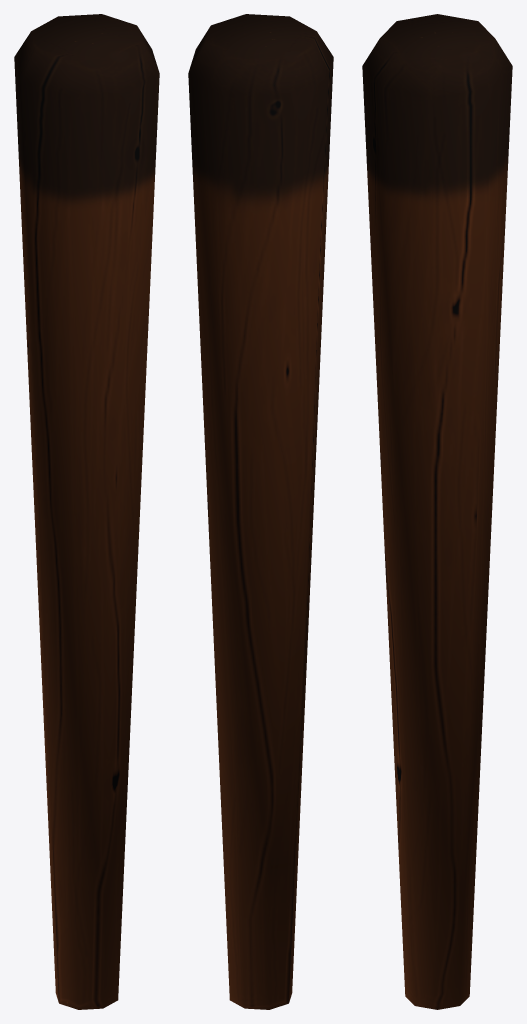
The model's file is Torch.fbx.
3 renders of one model, left to right at view 1: azimuth 30°, elevation 25°; view 2: azimuth 150°, elevation 25°; view 3: azimuth 270°, elevation 25°, orthographic.
Visible parts, largest first — view 1: Torch_LOD0; view 2: Torch_LOD0; view 3: Torch_LOD0.
Boxes of the visible parts, box(x1,y1,x2,y2) form: Torch_LOD0: box(14, 14, 159, 1009); Torch_LOD0: box(188, 14, 333, 1009); Torch_LOD0: box(362, 14, 512, 1009).
Size of what is drawn, in the model's own units: 15.58 by 110 by 15.58.
Materials: 1 (1 with a texture image).
